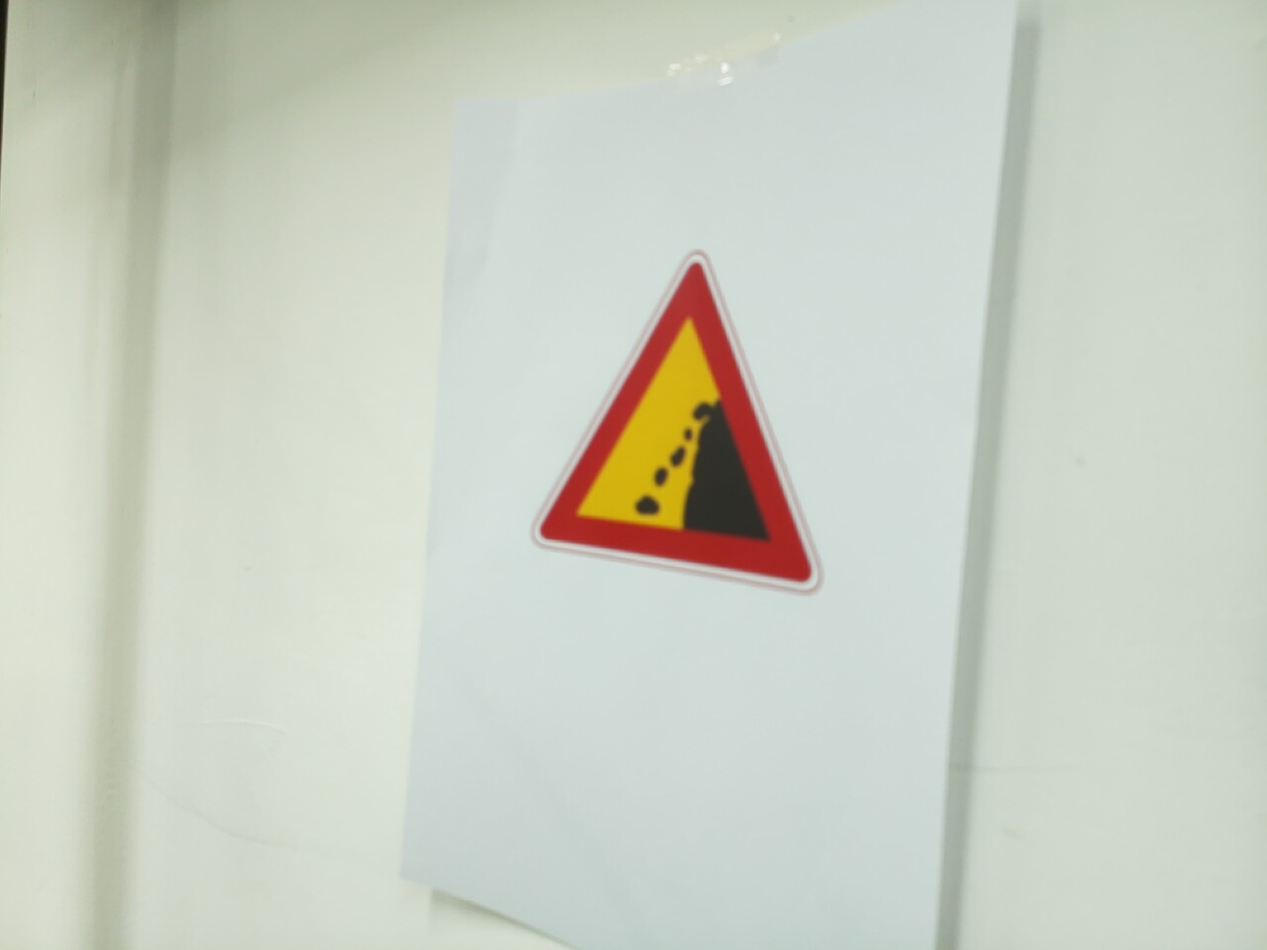falling_rocks: (532, 252, 821, 592)
